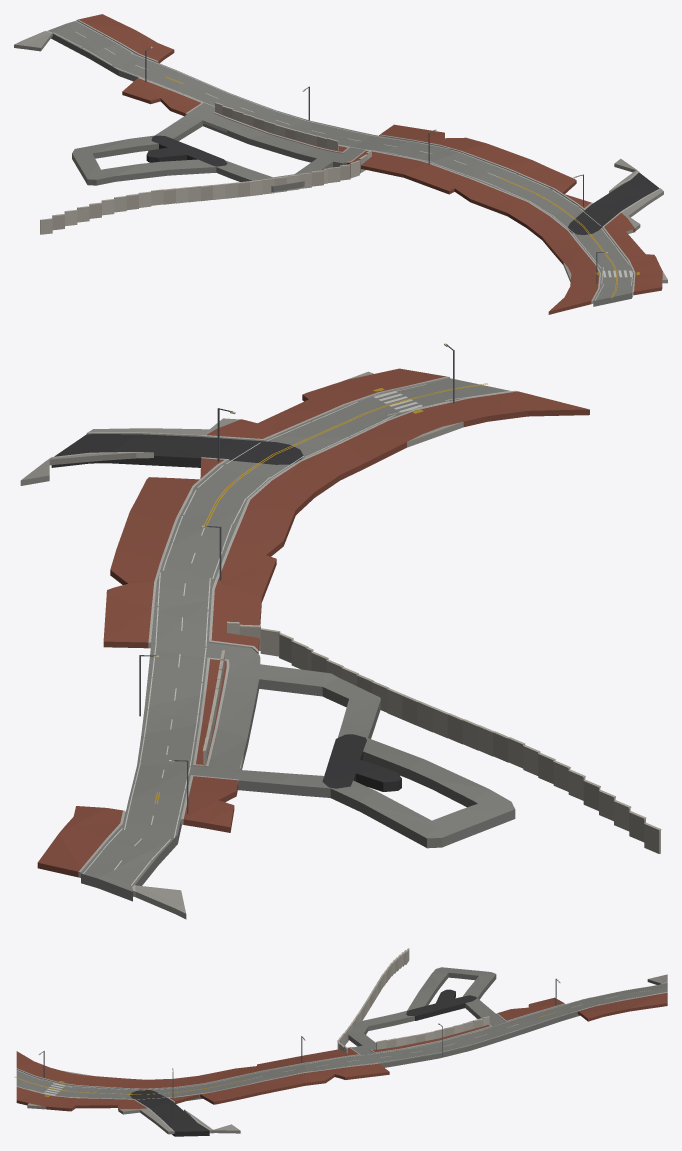
3 views of the same model, one above another, from view 1: azimuth 30°, elevation 25°; view 2: azimuth 150°, elevation 25°; view 3: azimuth 270°, elevation 25° (orthographic). The views are drawn at different scales.
Bounding box in the file's own units: 104 × 15.07 × 146.
